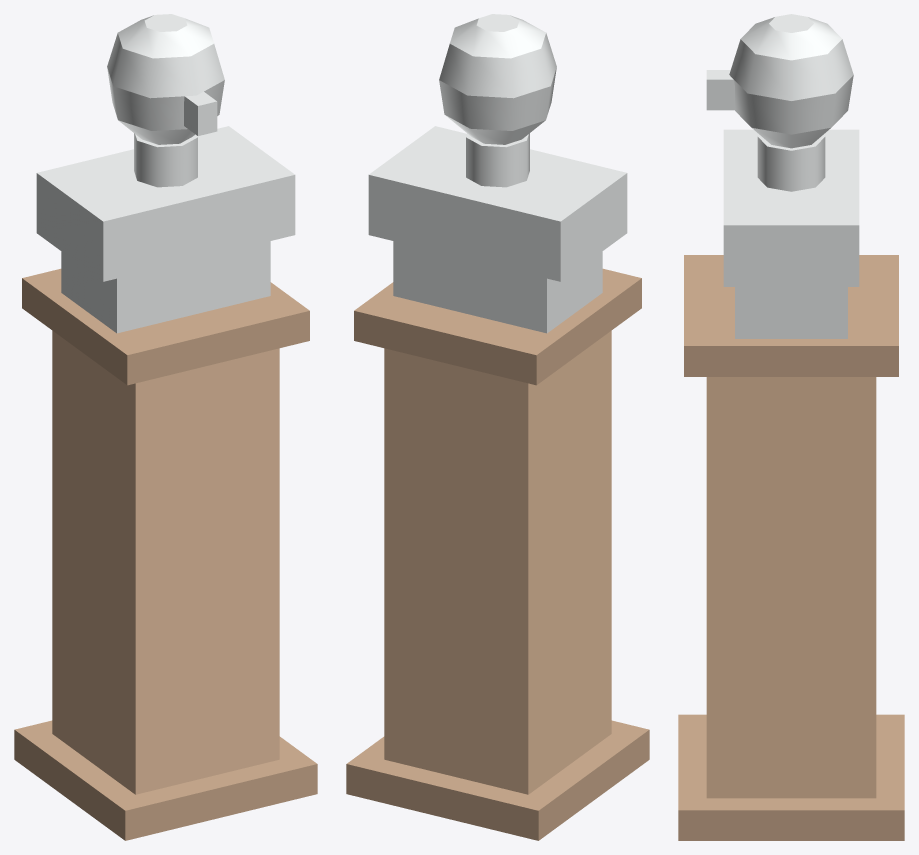
File: sculptureBust.glb
3 views of the same model, side by side, from view 1: azimuth 30°, elevation 25°; view 2: azimuth 150°, elevation 25°; view 3: azimuth 270°, elevation 25° (orthographic). The views are drawn at different scales.
Visible parts, largest first — view 1: sculptureBust; view 2: sculptureBust; view 3: sculptureBust.
Boxes of the visible parts, <box> form: sculptureBust: <box>14,14,317,840</box>; sculptureBust: <box>346,14,649,840</box>; sculptureBust: <box>678,14,904,840</box>.
Size of the model in its own units: 0.2 by 0.75 by 0.2.
